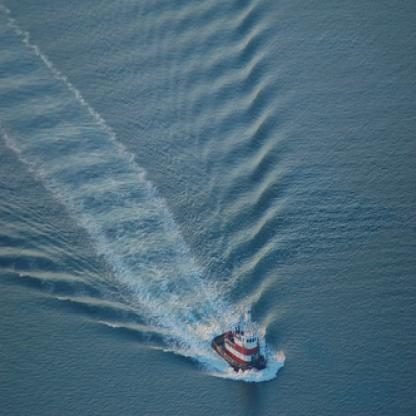boat: (211, 314, 267, 376)
